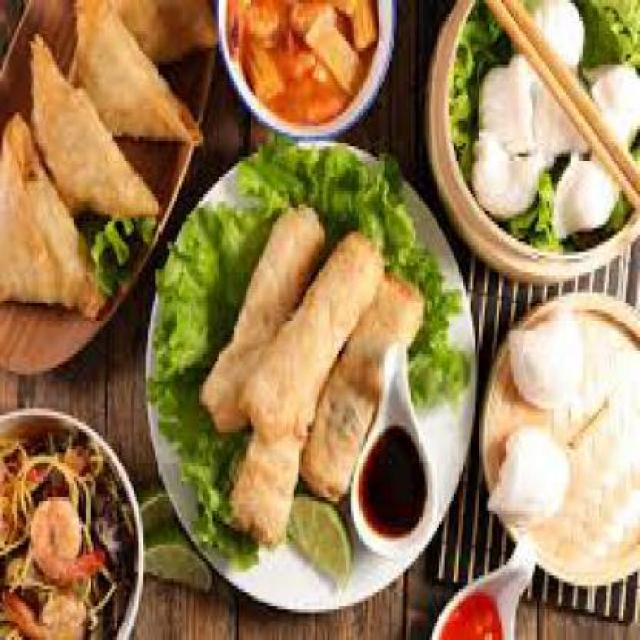samosa: (2, 3, 210, 323)
spring rolls: (203, 204, 423, 538)
